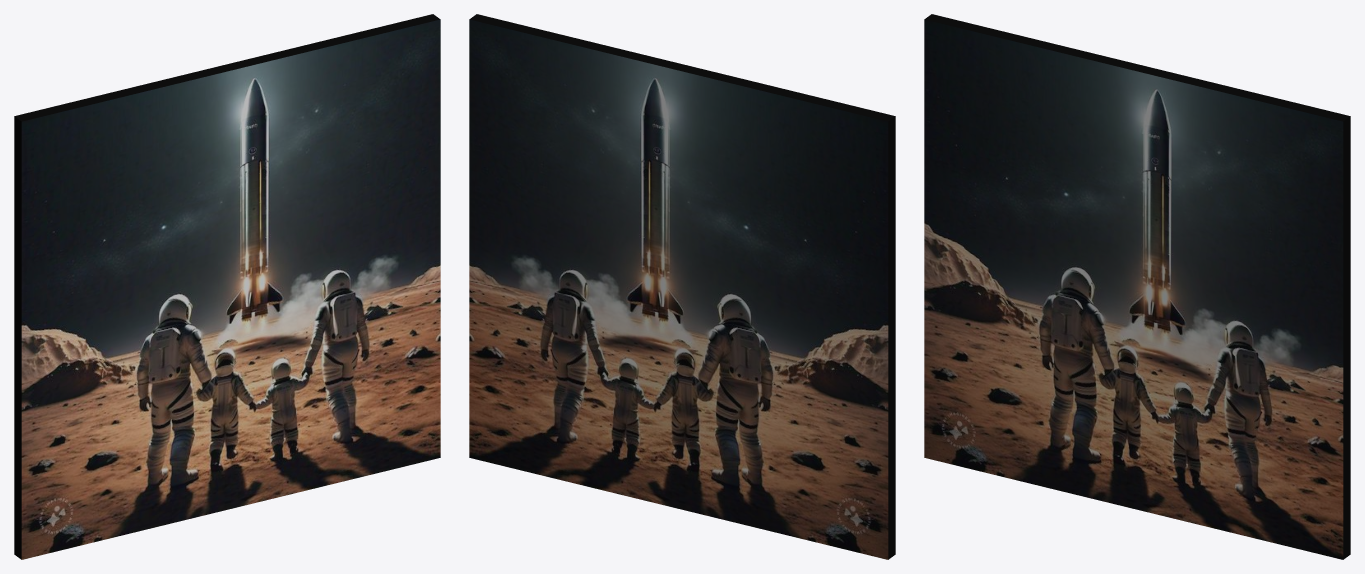
Rendered from Puzzle_2_Full.glb.
3 renders of one model, left to right at view 1: azimuth 30°, elevation 25°; view 2: azimuth 150°, elevation 25°; view 3: azimuth 330°, elevation 25°, orthographic.
Parts seen in each view (by area): view 1: Puzzle_1; view 2: Puzzle_1; view 3: Puzzle_1.
Boxes of the visible parts, box(x1,y1,x2,y2) form: Puzzle_1: box(14, 14, 440, 559); Puzzle_1: box(469, 14, 895, 559); Puzzle_1: box(924, 14, 1350, 559).
Bounding box in the file's own units: 4.86 × 4.86 × 0.15.
2 materials, 1 textured.
